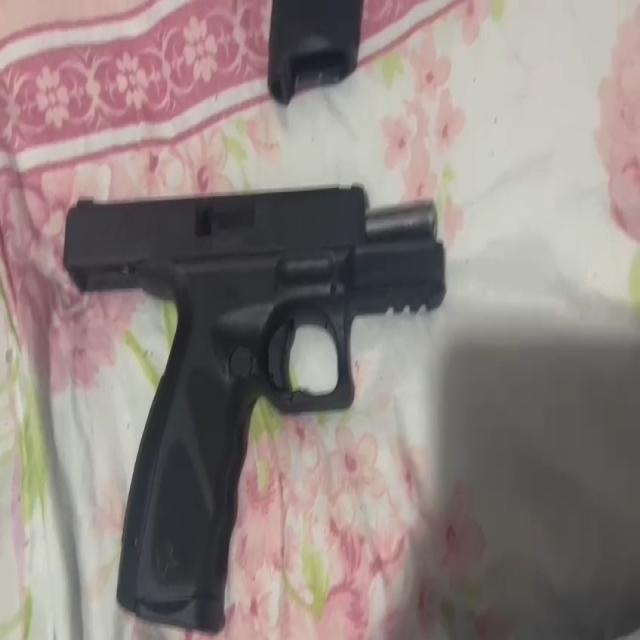gun: (61, 182, 452, 636)
